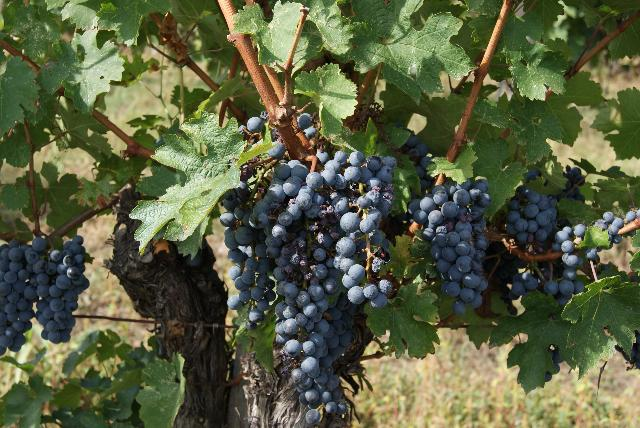grapes: (275, 205, 360, 422), (321, 150, 398, 309), (409, 180, 491, 315), (220, 181, 276, 331), (25, 238, 89, 344), (250, 164, 338, 239), (0, 238, 46, 356)
